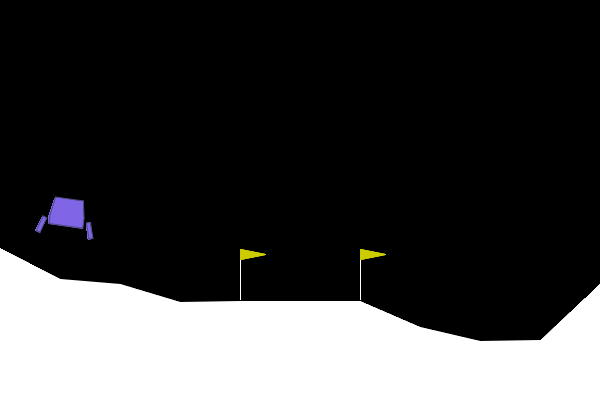lander: (34, 193, 99, 241)
